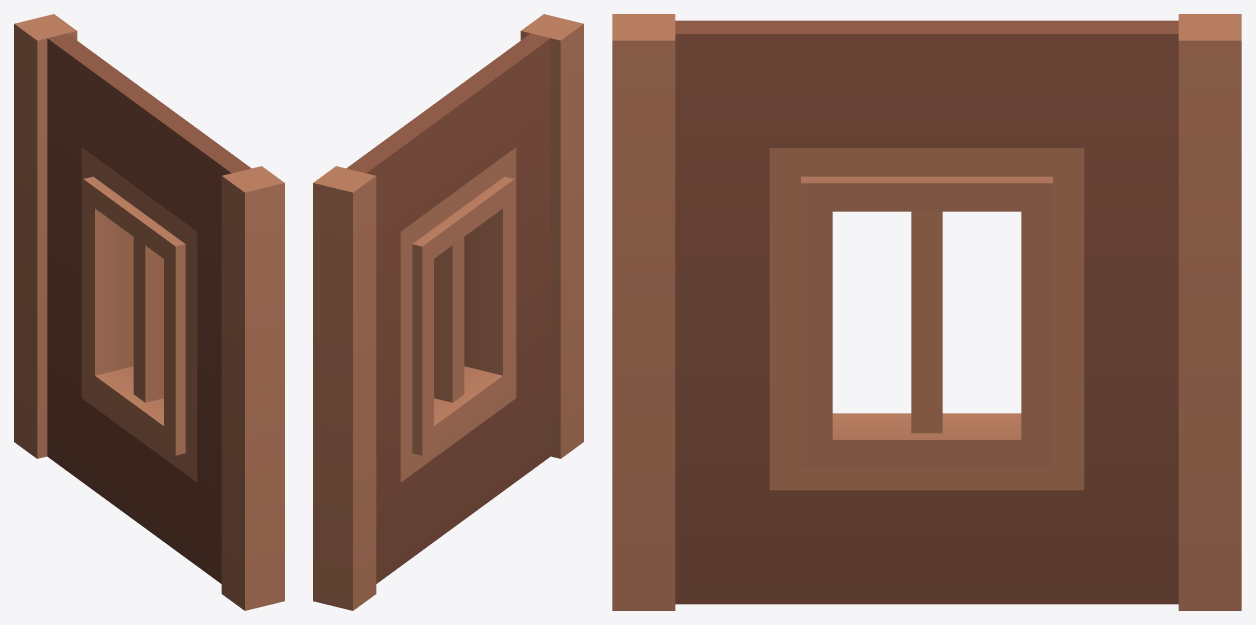
Rendered from wall_wood_window_shutters.glb.
3 renders of one model, left to right at view 1: azimuth 30°, elevation 25°; view 2: azimuth 150°, elevation 25°; view 3: azimuth 270°, elevation 25°, orthographic. The views are drawn at different scales.
Parts seen in each view (by area): view 1: wall-wood-window-shutters; view 2: wall-wood-window-shutters; view 3: wall-wood-window-shutters.
Boxes of the visible parts, x1,y1,x2,y2 form: wall-wood-window-shutters: (14, 14, 284, 610); wall-wood-window-shutters: (313, 14, 583, 610); wall-wood-window-shutters: (612, 14, 1241, 610).
Bounding box in the file's own units: 0.1 × 1 × 1.
Materials: 1 (1 with a texture image).
